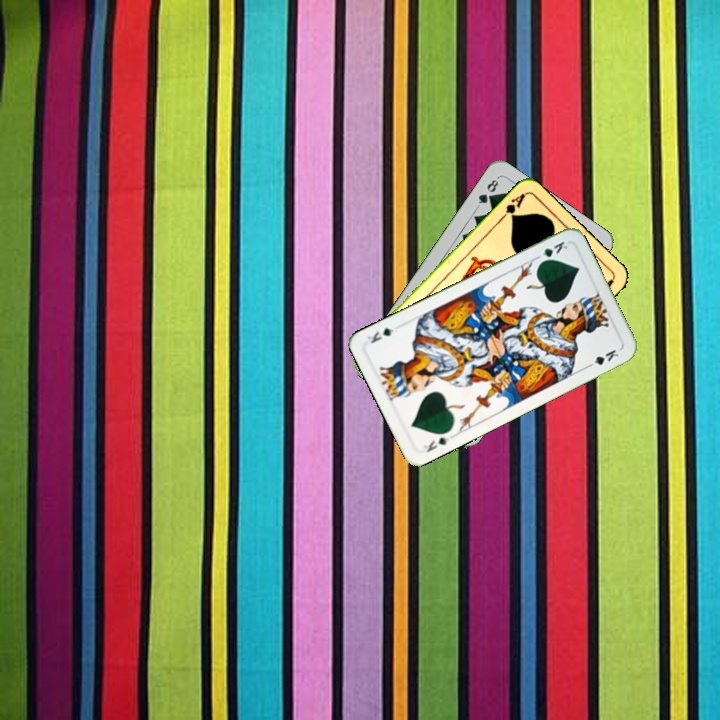G8: (473, 174, 502, 210)
GA: (496, 189, 528, 223)
GK: (532, 237, 570, 266), (419, 433, 452, 455)
